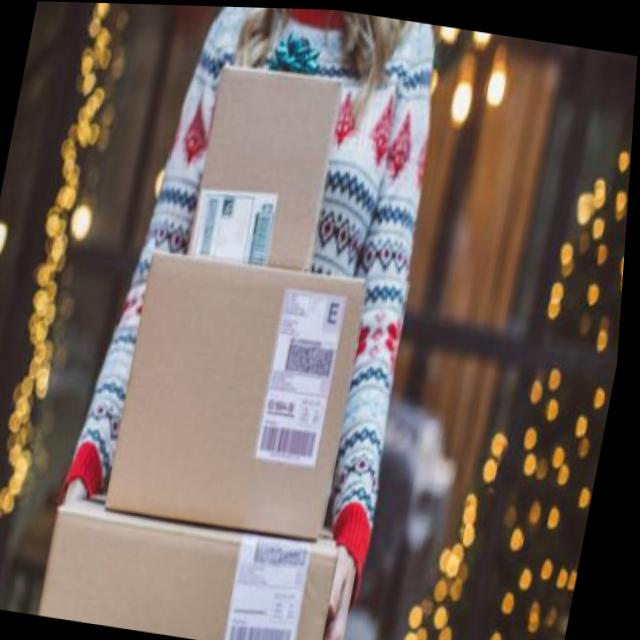box: (98, 235, 387, 553), (39, 485, 360, 640), (183, 44, 363, 276)
